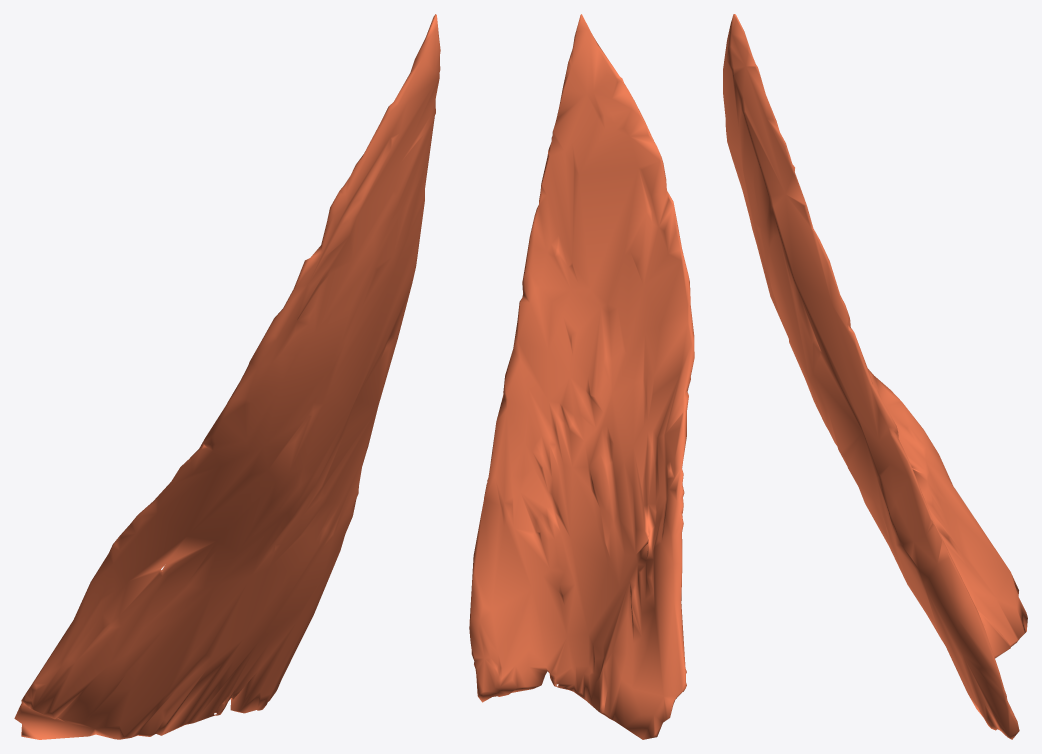
The model's file is Pyramidalis_muscle.r_Generated_Mesh_From_X3D.260.glb.
3 renders of one model, left to right at view 1: azimuth 30°, elevation 25°; view 2: azimuth 150°, elevation 25°; view 3: azimuth 270°, elevation 25°, orthographic. The views are drawn at different scales.
Parts seen in each view (by area): view 1: Pyramidalis_muscle.r_Generated_Mesh_From_X3D.260; view 2: Pyramidalis_muscle.r_Generated_Mesh_From_X3D.260; view 3: Pyramidalis_muscle.r_Generated_Mesh_From_X3D.260.
Part boxes in pixels (bbox=[...]): Pyramidalis_muscle.r_Generated_Mesh_From_X3D.260: bbox=[14, 14, 440, 739]; Pyramidalis_muscle.r_Generated_Mesh_From_X3D.260: bbox=[469, 14, 694, 739]; Pyramidalis_muscle.r_Generated_Mesh_From_X3D.260: bbox=[723, 14, 1027, 739].
Bounding box in the file's own units: 0.0279 × 0.0716 × 0.0269.
